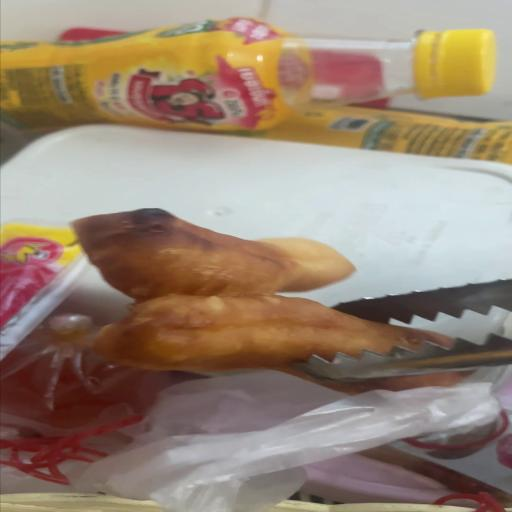street_burnt_good: (71, 208, 452, 376)
